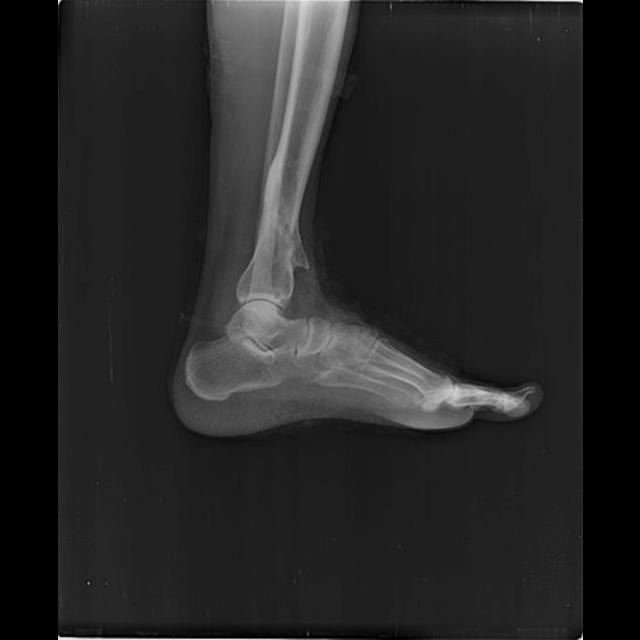Fracture: (270, 201, 312, 278)
